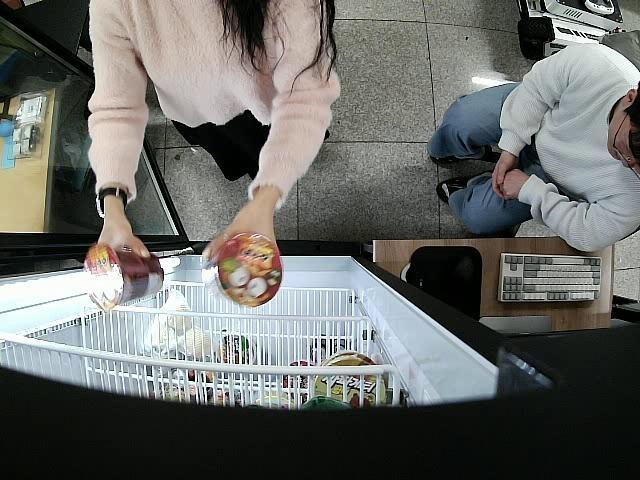06_nuguri_S: (203, 234, 284, 308), (82, 245, 164, 311)
